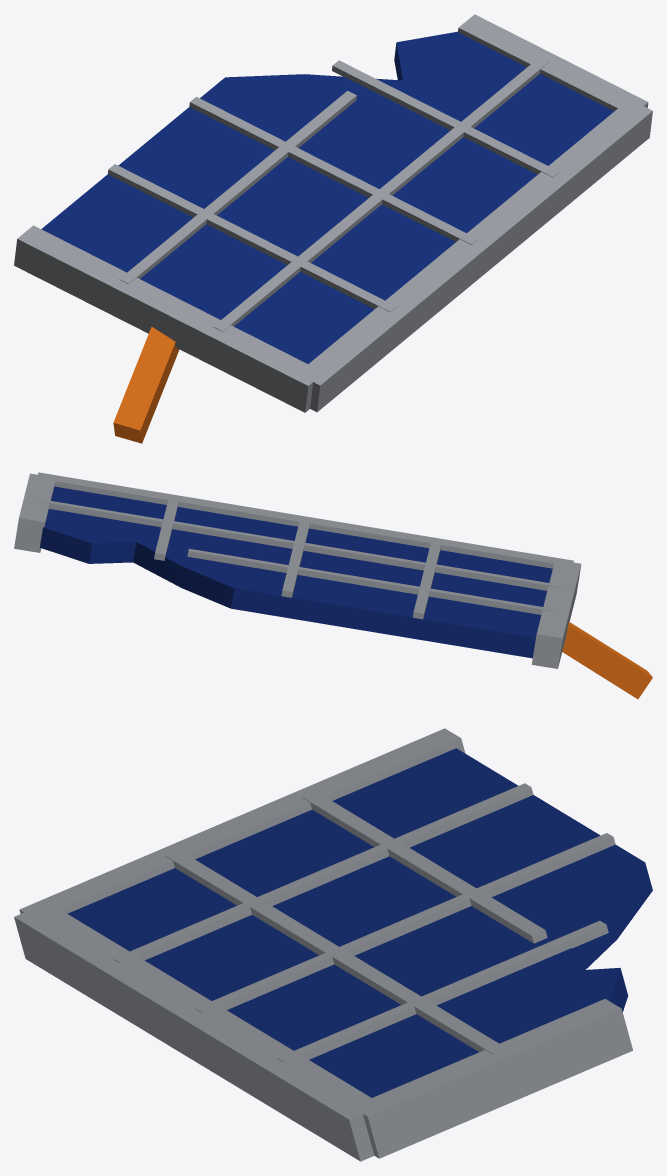
The model's file is panel.glb.
3 renders of one model, top to bottom at view 1: azimuth 30°, elevation 25°; view 2: azimuth 150°, elevation 25°; view 3: azimuth 270°, elevation 25°, orthographic. The views are drawn at different scales.
Visible parts, largest first — view 1: Body; view 2: Body; view 3: Body.
Boxes of the visible parts, <box> form: Body: <box>14,14,652,443</box>; Body: <box>14,472,652,699</box>; Body: <box>14,728,652,1161</box>.
Size of the model in its own units: 1.22 by 0.3605 by 0.814.
